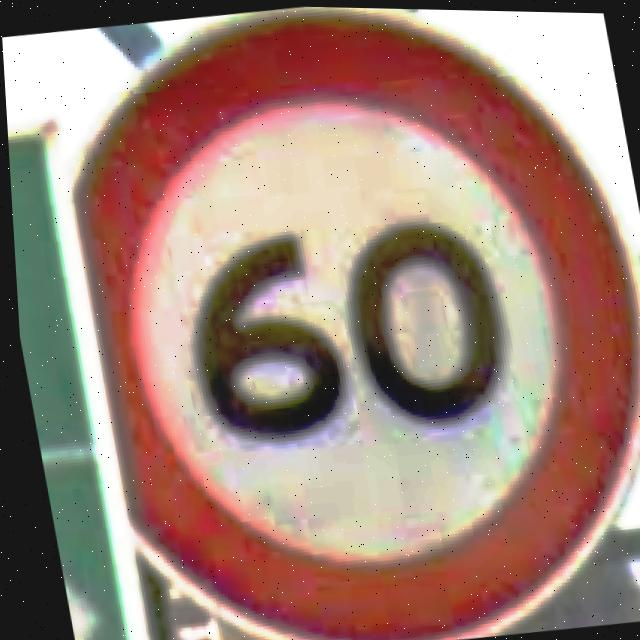max60: (29, 1, 640, 640)
